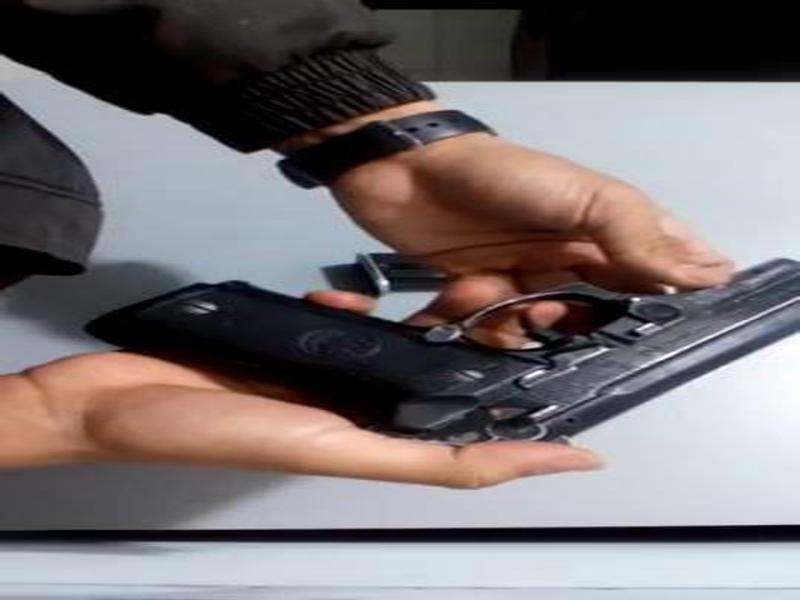Pistola: (112, 191, 800, 464)
